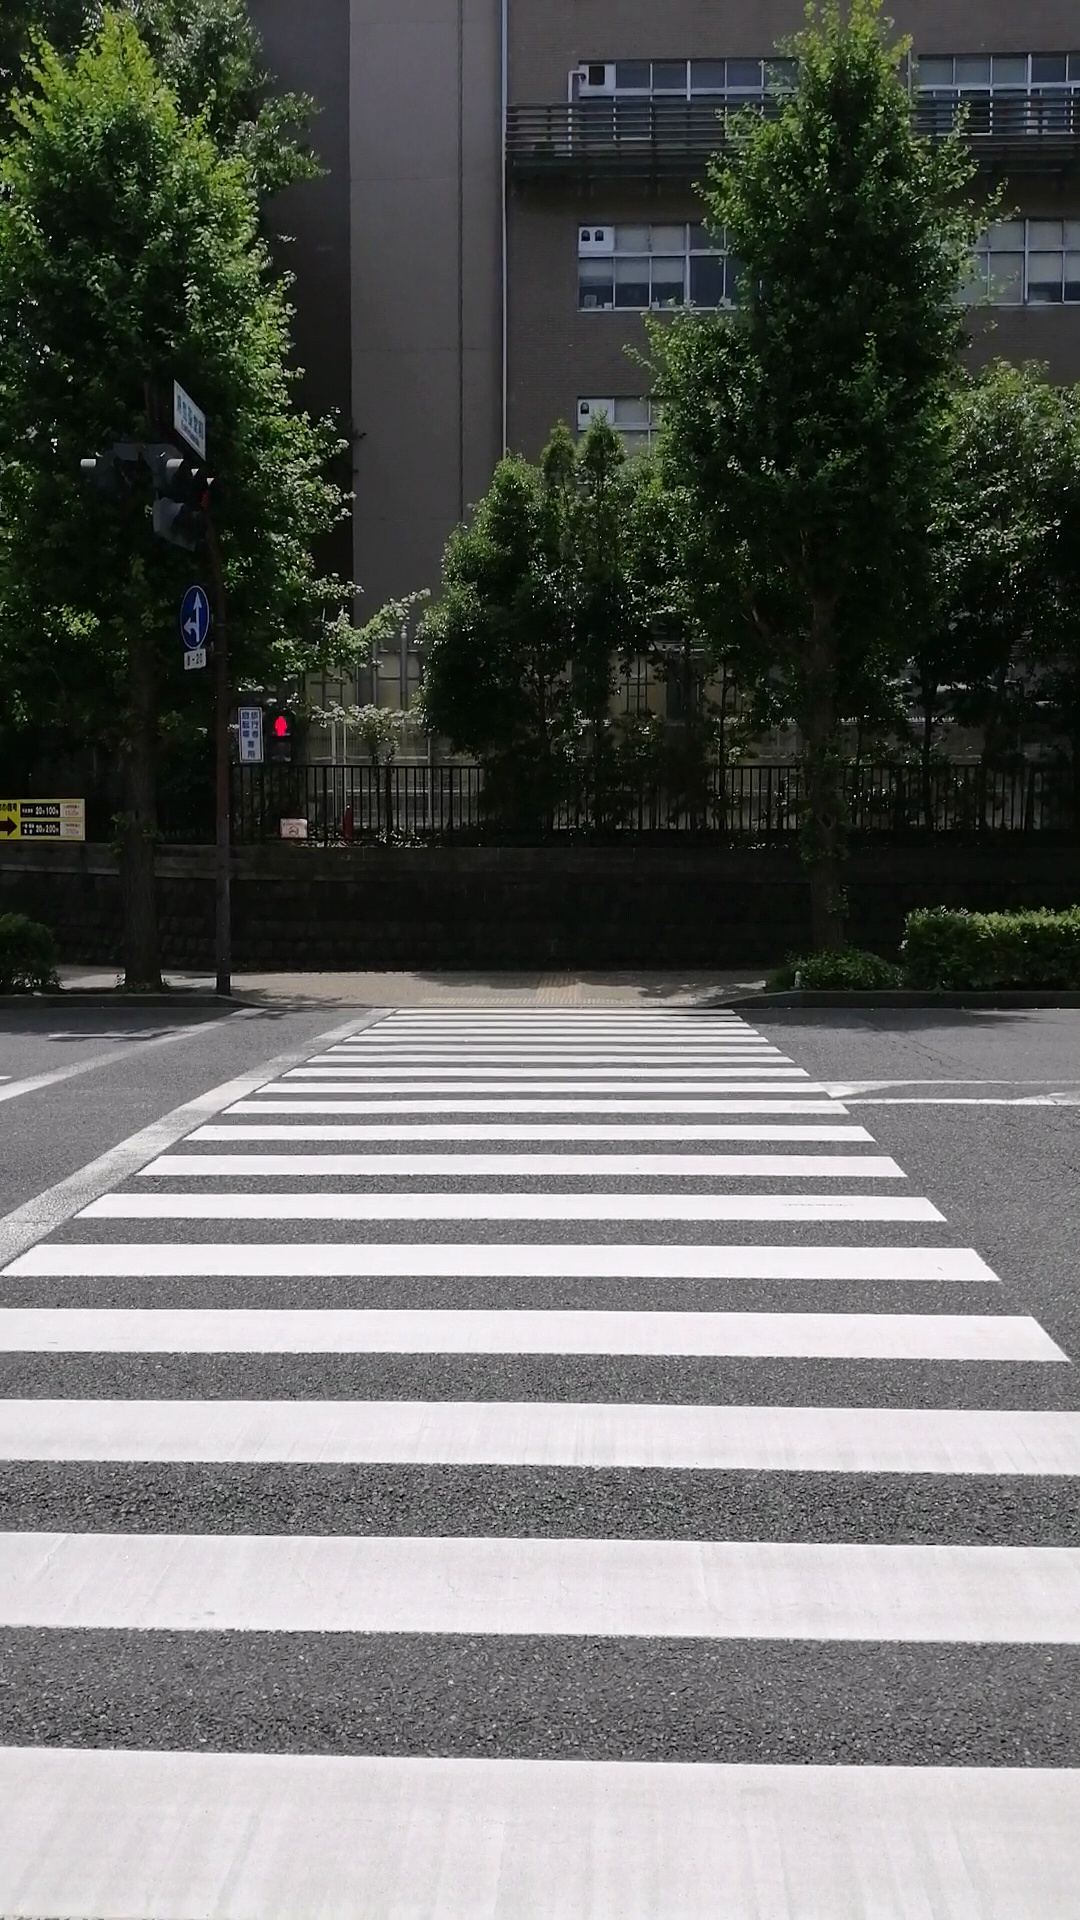red: (266, 708, 295, 762)
